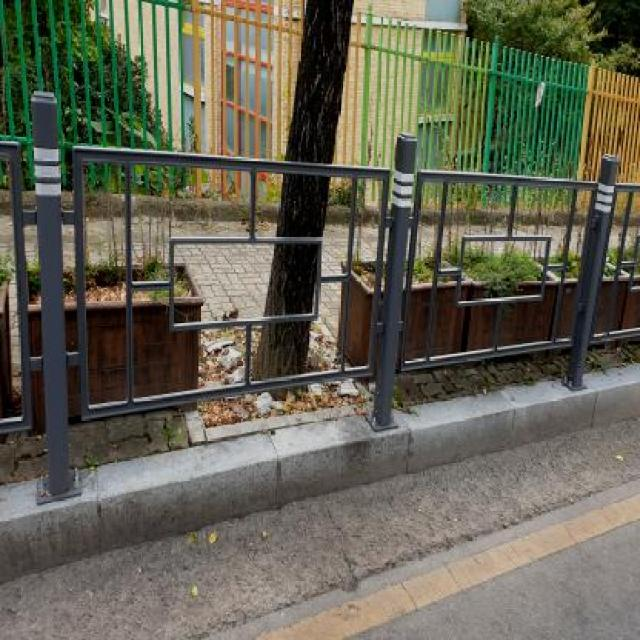fence: (3, 72, 640, 507)
